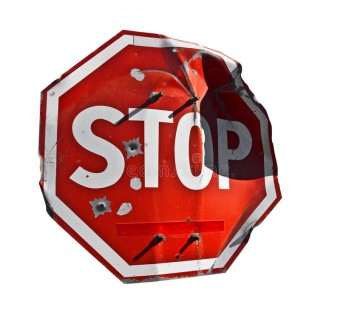SS: (38, 33, 273, 276)
